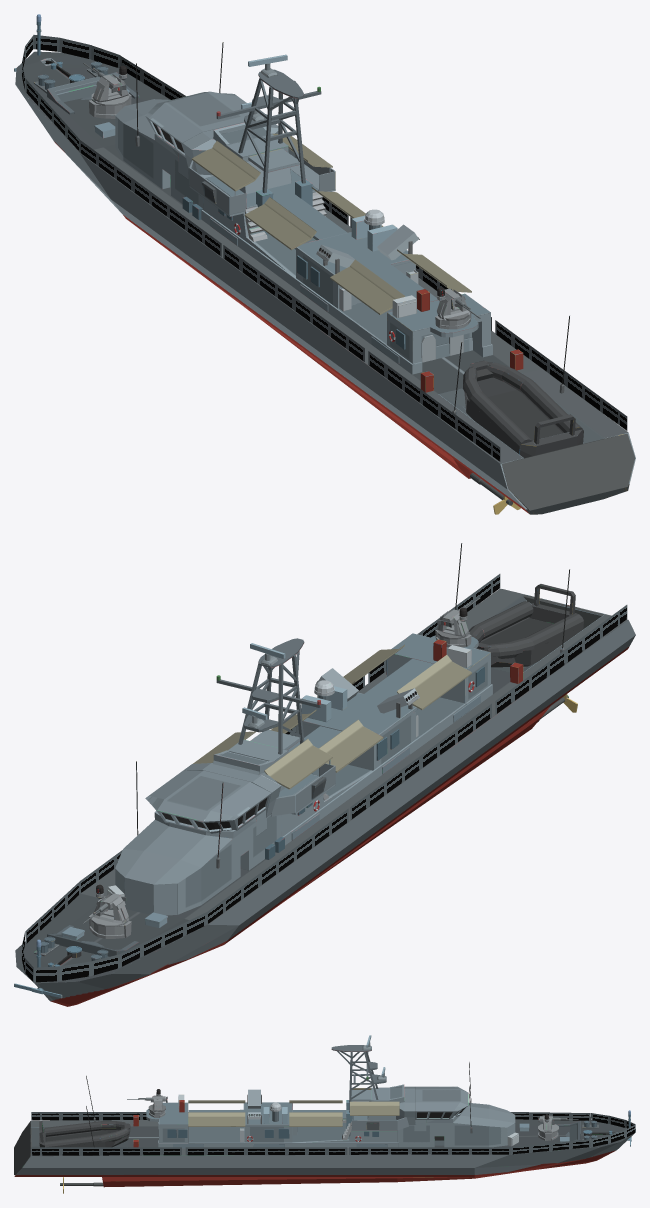
The model's file is lowpoly_uss_hurricane_pc-3.fbx.
3 renders of one model, top to bottom at view 1: azimuth 30°, elevation 25°; view 2: azimuth 150°, elevation 25°; view 3: azimuth 270°, elevation 25°, orthographic. The views are drawn at different scales.
Parts seen in each view (by area): view 1: Object_74, Object_72, Object_75, Object_34, Object_30, Object_76, Object_73, Object_68, Object_8, Object_43, Object_9, Object_55; view 2: Object_74, Object_72, Object_75, Object_34, Object_76, Object_73, Object_8, Object_68, Object_43, Object_9, Object_55; view 3: Object_74, Object_72, Object_75, Object_34, Object_76, Object_73, Object_30, Object_8, Object_68, Object_9, Object_43, Object_55.
Boxes of the visible parts, bbox=[...] form: Object_74: bbox=[15, 42, 635, 514]; Object_72: bbox=[21, 35, 627, 461]; Object_75: bbox=[192, 133, 471, 314]; Object_34: bbox=[462, 360, 583, 458]; Object_30: bbox=[502, 433, 635, 510]; Object_76: bbox=[216, 69, 321, 193]; Object_73: bbox=[201, 181, 569, 414]; Object_68: bbox=[316, 224, 419, 273]; Object_8: bbox=[47, 72, 139, 138]; Object_43: bbox=[83, 63, 128, 105]; Object_9: bbox=[14, 22, 108, 93]; Object_55: bbox=[437, 288, 480, 320]; Object_74: bbox=[15, 588, 635, 1006]; Object_72: bbox=[21, 574, 627, 982]; Object_75: bbox=[193, 639, 471, 789]; Object_34: bbox=[469, 584, 583, 667]; Object_76: bbox=[216, 638, 321, 754]; Object_73: bbox=[301, 543, 569, 799]; Object_8: bbox=[47, 885, 167, 956]; Object_68: bbox=[316, 668, 419, 717]; Object_43: bbox=[83, 892, 128, 926]; Object_9: bbox=[14, 936, 108, 998]; Object_55: bbox=[437, 597, 480, 639]; Object_74: bbox=[14, 1062, 634, 1187]; Object_72: bbox=[31, 1112, 635, 1155]; Object_75: bbox=[179, 1088, 399, 1126]; Object_34: bbox=[39, 1121, 130, 1147]; Object_76: bbox=[331, 1045, 386, 1112]; Object_73: bbox=[86, 1075, 379, 1147]; Object_30: bbox=[14, 1121, 31, 1175]; Object_8: bbox=[507, 1120, 580, 1146]; Object_68: bbox=[247, 1089, 261, 1124]; Object_9: bbox=[582, 1114, 631, 1146]; Object_43: bbox=[538, 1115, 578, 1132]; Object_55: bbox=[127, 1094, 165, 1112].
Bounding box in the file's own units: 288 × 544 × 2117.
14 materials, 14 textured.
